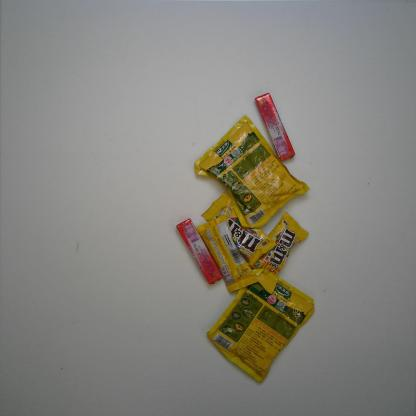Candy: (174, 218, 224, 285), (254, 92, 296, 162)
Chocolate: (200, 190, 279, 268), (242, 211, 310, 296), (194, 213, 259, 294)
Seasoner: (191, 113, 311, 230), (204, 265, 316, 384)
